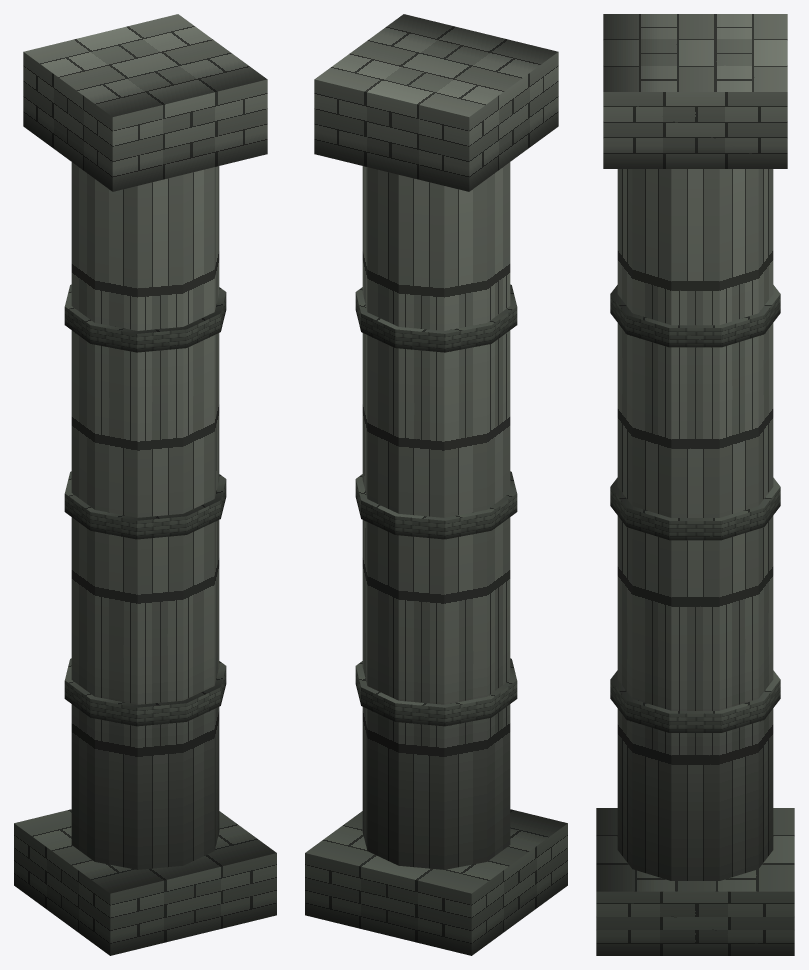
File: pillar.gltf
3 renders of one model, left to right at view 1: azimuth 30°, elevation 25°; view 2: azimuth 150°, elevation 25°; view 3: azimuth 270°, elevation 25°, orthographic. The views are drawn at different scales.
Parts seen in each view (by area): view 1: pillar; view 2: pillar; view 3: pillar.
Boxes of the visible parts, left/top/right/bottom form: pillar: left=14, top=14, right=276, bottom=955; pillar: left=305, top=14, right=567, bottom=955; pillar: left=596, top=14, right=794, bottom=955.
Size of the model in its own units: 0.28 by 1.34 by 0.28.
Materials: 1 (1 with a texture image).
